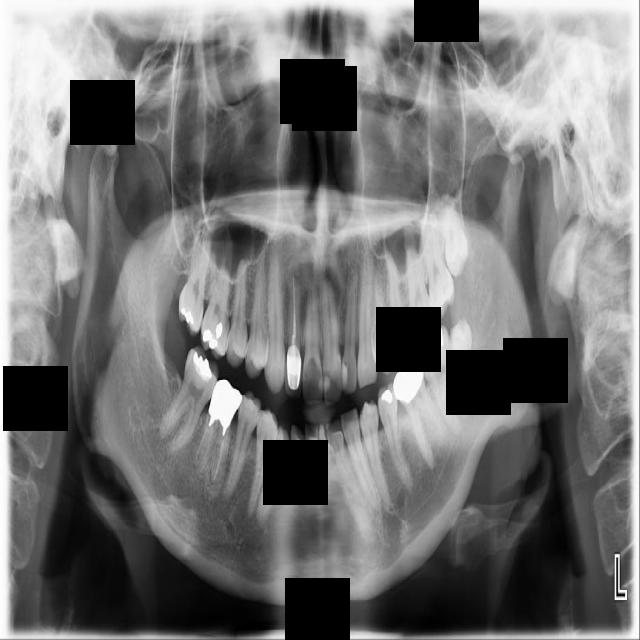52: (171, 342, 232, 405), (405, 322, 466, 382), (385, 349, 432, 409), (201, 375, 248, 433), (198, 305, 232, 360), (176, 282, 205, 338), (384, 319, 419, 365), (322, 350, 344, 406), (376, 381, 400, 427), (302, 352, 323, 404), (284, 344, 304, 398), (342, 351, 357, 393), (344, 360, 353, 382), (322, 370, 330, 382)
73: (187, 409, 234, 484), (286, 262, 301, 352), (576, 548, 580, 552)
BioHorizons Implant: (414, 195, 459, 322)
BioLife Implant: (442, 193, 469, 278)
Biomet 3i Implant: (449, 318, 472, 407)
Blue Sky Bio Implant: (412, 322, 473, 436)
Caries: (174, 200, 219, 339)
Implant: (151, 343, 227, 461)
